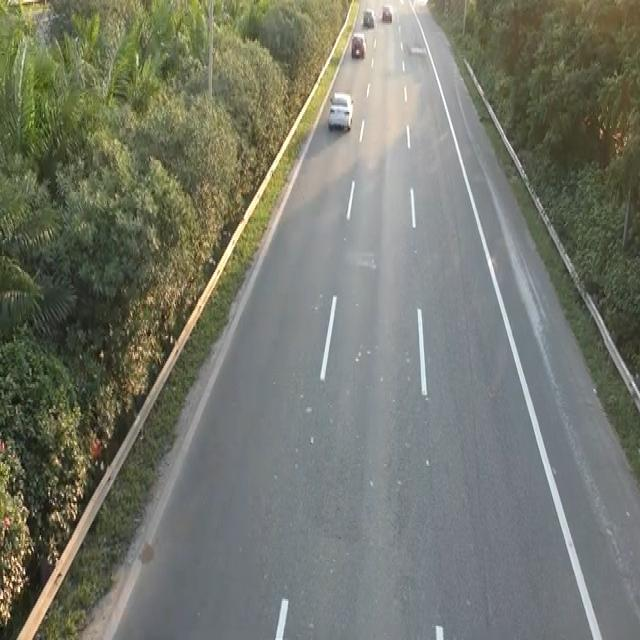bus: (325, 87, 357, 139), (350, 30, 366, 59)
